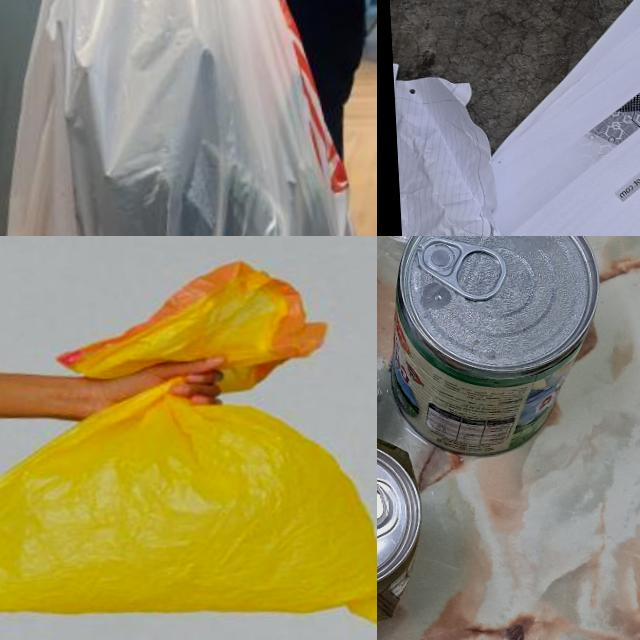aba de lata: (414, 236, 507, 301), (377, 479, 392, 540)
lata: (379, 236, 610, 460), (377, 436, 429, 640)
papel: (460, 0, 640, 236), (393, 53, 502, 236)
sacola plástica: (0, 249, 377, 640), (0, 0, 377, 236)
